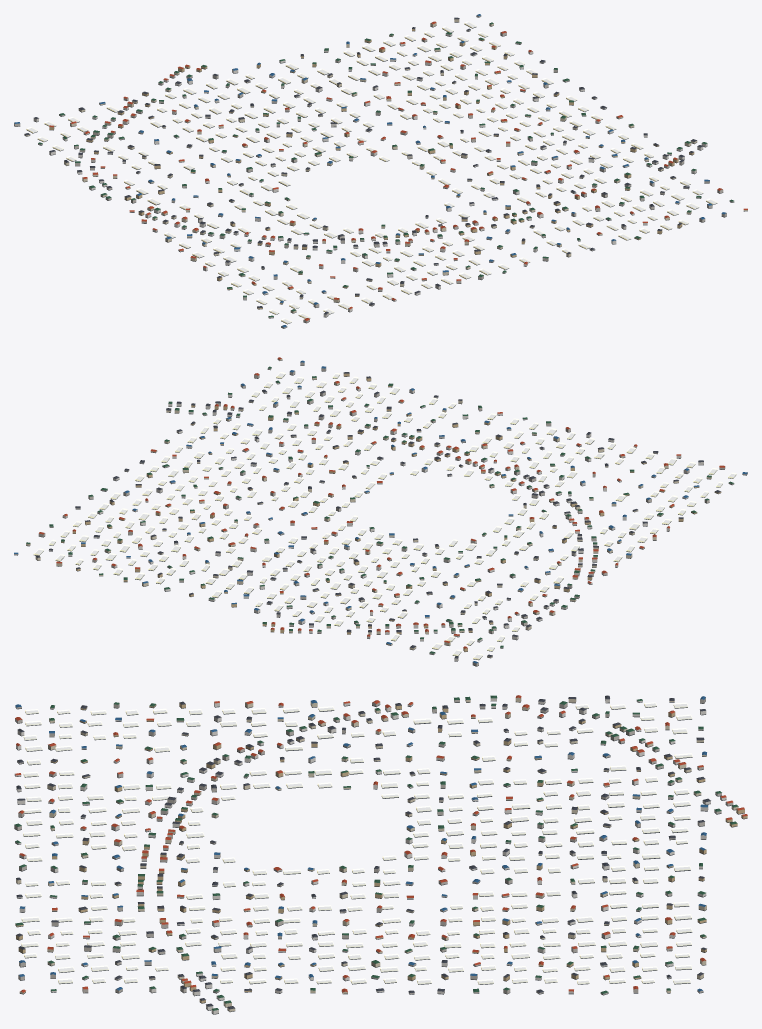
Rendered from buildings_T_W03_S07.glb.
The picture shows the model from 3 angles, top to bottom: view 1: azimuth 30°, elevation 25°; view 2: azimuth 150°, elevation 25°; view 3: azimuth 270°, elevation 25°; orthographic projection. The views are drawn at different scales.
Parts seen in each view (by area): view 1: T_W03_S07_roofs_agri_greenhouse_arch, T_W03_S07_slope_seating_foundations, T_W03_S07_walls_wall_modern_warm_white, T_W03_S07_walls_wall_pastel_sand_gray, T_W03_S07_roofs_roof_slate_French_villa_hip, T_W03_S07_walls_wall_dalat_cream_stucco, T_W03_S07_walls_wall_french_ochre_villa, T_W03_S07_roofs_roof_pine_green_hip, T_W03_S07_roofs_roof_terracotta_gable, T_W03_S07_roofs_roof_highland_blue_gable; view 2: T_W03_S07_roofs_agri_greenhouse_arch, T_W03_S07_slope_seating_foundations, T_W03_S07_walls_wall_modern_warm_white, T_W03_S07_roofs_roof_slate_French_villa_hip, T_W03_S07_walls_wall_pastel_sand_gray, T_W03_S07_walls_wall_dalat_cream_stucco, T_W03_S07_walls_wall_french_ochre_villa, T_W03_S07_roofs_roof_pine_green_hip, T_W03_S07_roofs_roof_terracotta_gable, T_W03_S07_roofs_roof_highland_blue_gable; view 3: T_W03_S07_roofs_agri_greenhouse_arch, T_W03_S07_slope_seating_foundations, T_W03_S07_walls_wall_modern_warm_white, T_W03_S07_walls_wall_pastel_sand_gray, T_W03_S07_roofs_roof_slate_French_villa_hip, T_W03_S07_walls_wall_dalat_cream_stucco, T_W03_S07_walls_wall_french_ochre_villa, T_W03_S07_roofs_roof_pine_green_hip, T_W03_S07_roofs_roof_terracotta_gable, T_W03_S07_roofs_roof_highland_blue_gable.
Part boxes in pixels (x1,y1,x2,y2): T_W03_S07_roofs_agri_greenhouse_arch: (26, 21, 717, 323); T_W03_S07_slope_seating_foundations: (14, 16, 747, 328); T_W03_S07_walls_wall_modern_warm_white: (33, 30, 734, 317); T_W03_S07_walls_wall_pastel_sand_gray: (14, 15, 726, 328); T_W03_S07_roofs_roof_slate_French_villa_hip: (24, 17, 703, 314); T_W03_S07_walls_wall_dalat_cream_stucco: (24, 19, 747, 313); T_W03_S07_walls_wall_french_ochre_villa: (49, 29, 694, 309); T_W03_S07_roofs_roof_pine_green_hip: (38, 22, 733, 317); T_W03_S07_roofs_roof_terracotta_gable: (49, 21, 747, 320); T_W03_S07_roofs_roof_highland_blue_gable: (14, 14, 726, 327); T_W03_S07_roofs_agri_greenhouse_arch: (33, 372, 736, 659); T_W03_S07_slope_seating_foundations: (14, 359, 747, 666); T_W03_S07_walls_wall_modern_warm_white: (49, 368, 703, 661); T_W03_S07_roofs_roof_slate_French_villa_hip: (36, 372, 720, 658); T_W03_S07_walls_wall_pastel_sand_gray: (14, 362, 747, 666); T_W03_S07_walls_wall_dalat_cream_stucco: (26, 359, 711, 657); T_W03_S07_walls_wall_french_ochre_villa: (61, 373, 721, 651); T_W03_S07_roofs_roof_pine_green_hip: (26, 366, 733, 653); T_W03_S07_roofs_roof_terracotta_gable: (39, 357, 724, 648); T_W03_S07_roofs_roof_highland_blue_gable: (14, 360, 747, 663); T_W03_S07_roofs_agri_greenhouse_arch: (21, 702, 692, 984); T_W03_S07_slope_seating_foundations: (14, 700, 747, 1014); T_W03_S07_walls_wall_modern_warm_white: (14, 698, 726, 1014); T_W03_S07_walls_wall_pastel_sand_gray: (14, 697, 733, 994); T_W03_S07_roofs_roof_slate_French_villa_hip: (16, 695, 710, 1009); T_W03_S07_walls_wall_dalat_cream_stucco: (16, 697, 738, 1011); T_W03_S07_walls_wall_french_ochre_villa: (15, 703, 747, 1003); T_W03_S07_roofs_roof_pine_green_hip: (14, 695, 738, 1010); T_W03_S07_roofs_roof_terracotta_gable: (15, 695, 747, 992); T_W03_S07_roofs_roof_highland_blue_gable: (15, 696, 708, 991).
Size of the model in its own units: 1890 by 33.32 by 1854.
